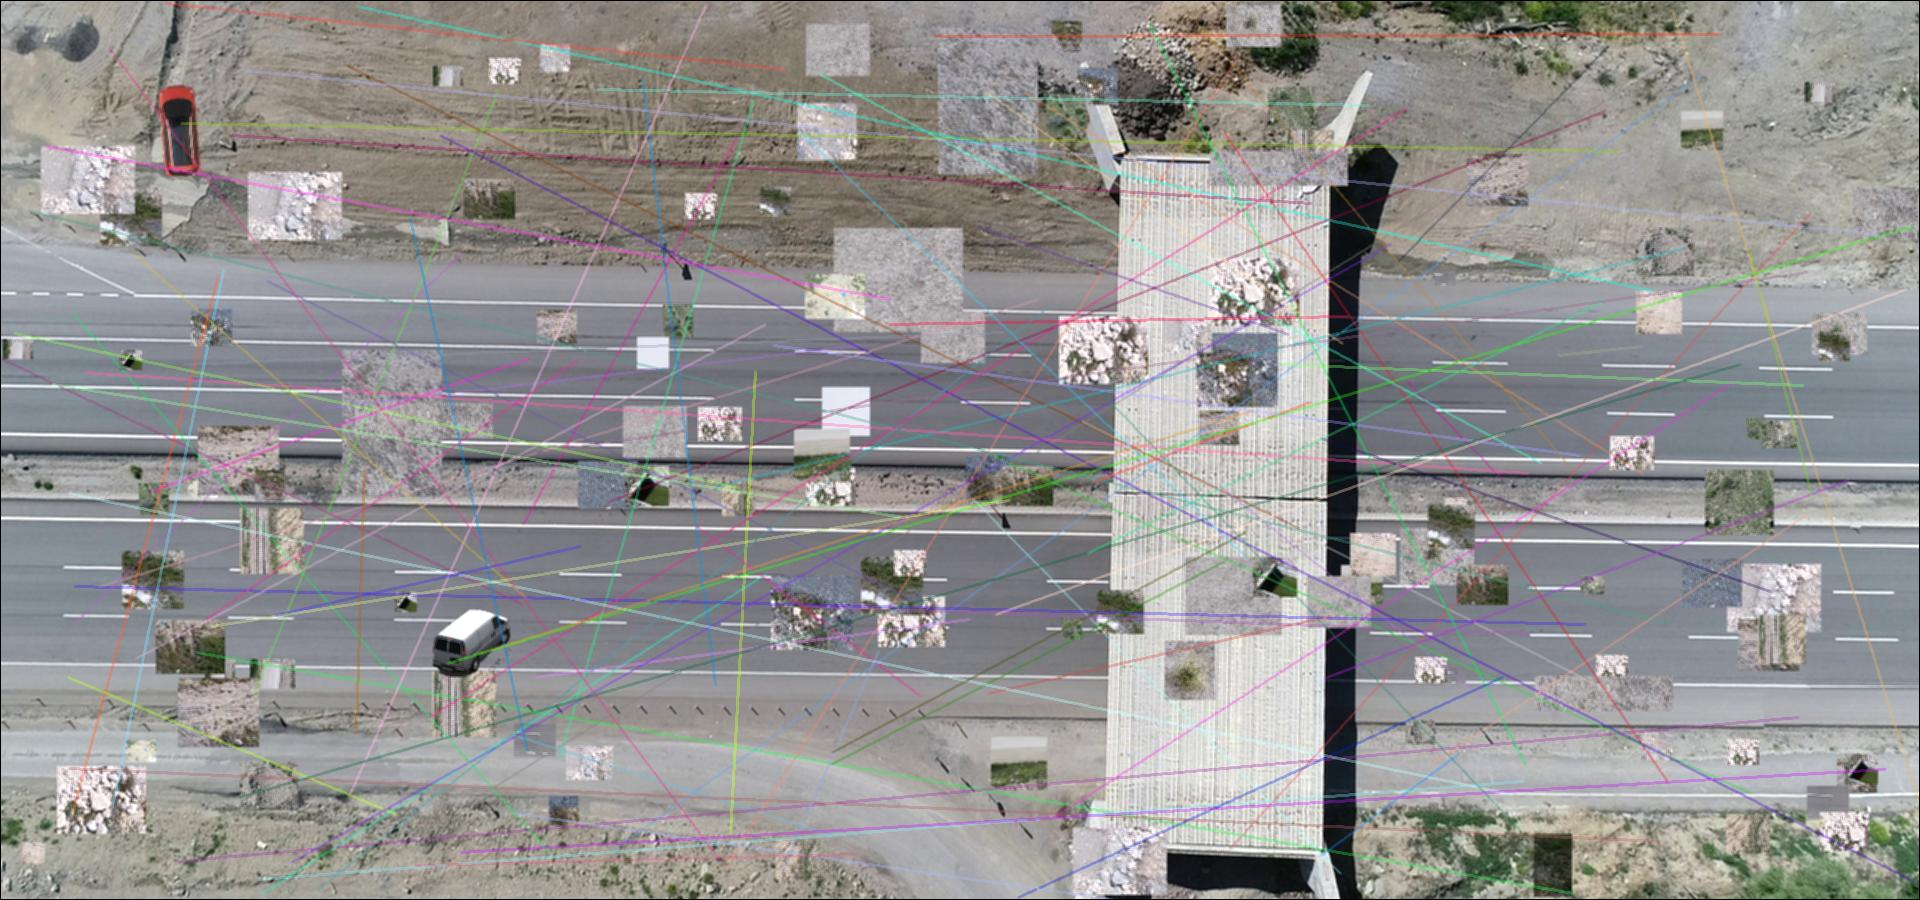arac: (433, 609, 511, 677), (156, 82, 204, 179)
